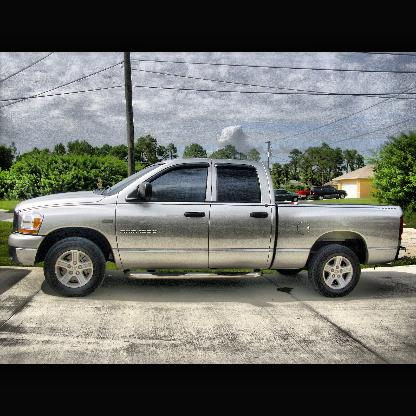Dodge Ram Pickup 3500 Quad Cab 2009: (11, 160, 404, 299)
